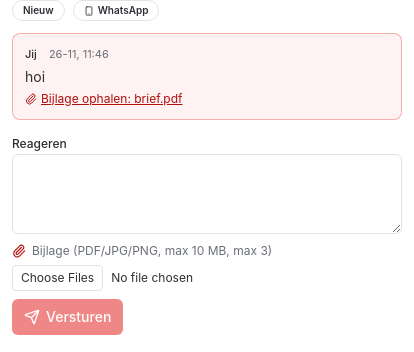
SupportThreadView › does not mint signed URLs on load; only on explicit click, and shows unavailable on denial
Later steps or results of the test are not shown.
Click the button "Bijlage ophalen: brief.pdf": (104, 98) [25,90,182,106]
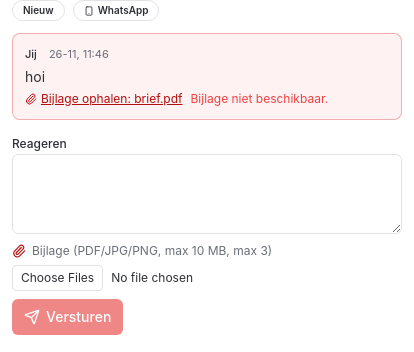
Expected: the text "Bijlage niet beschikbaar." is shown, [190,90,328,106]
